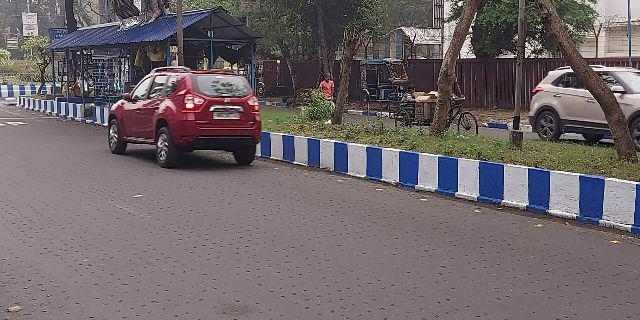Car: (104, 67, 268, 176), (531, 60, 636, 147)
